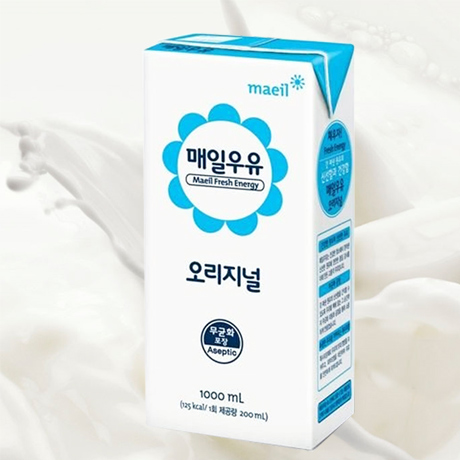milk: (143, 34, 356, 449)
